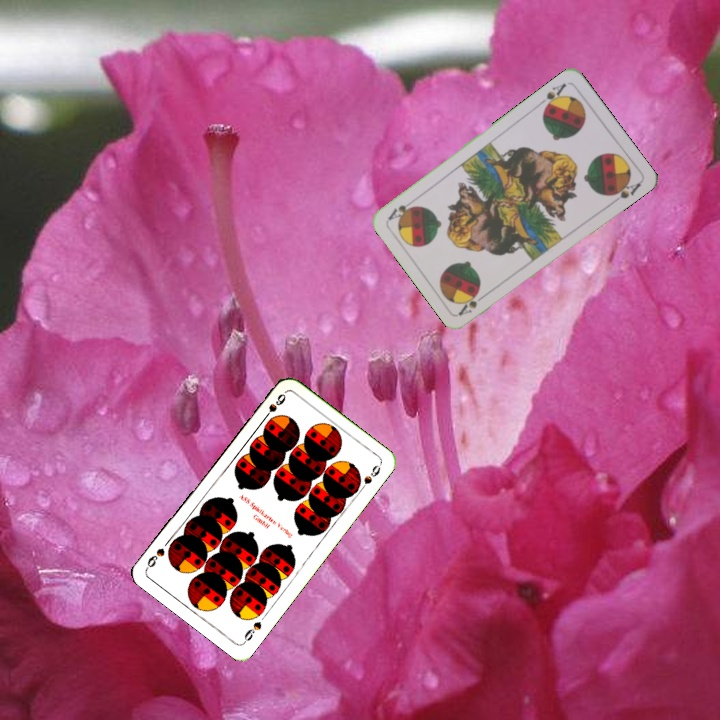S9: (259, 390, 288, 423), (239, 617, 264, 646)
SA: (534, 79, 569, 113), (455, 288, 490, 318)
